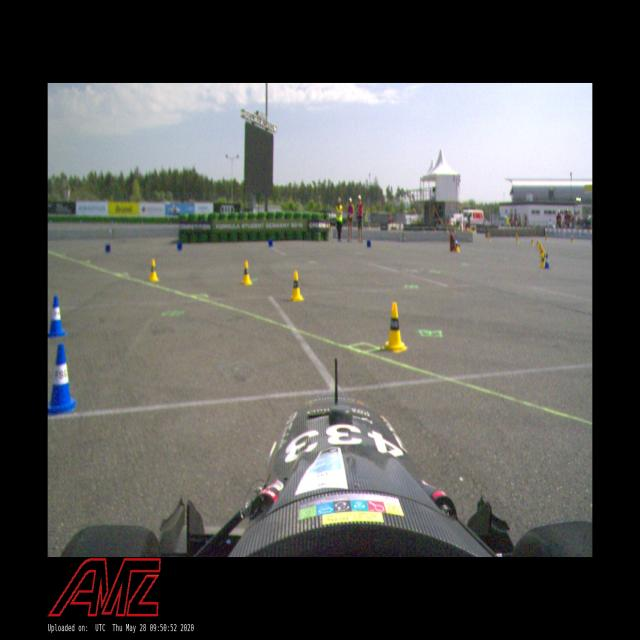blue_cone: (48, 342, 76, 417), (48, 295, 67, 337), (544, 254, 550, 269), (105, 244, 111, 253), (177, 242, 182, 251), (268, 240, 273, 247), (367, 240, 371, 248)
yellow_cone: (384, 303, 405, 352), (290, 270, 304, 301), (242, 260, 252, 285), (148, 258, 158, 282), (540, 252, 546, 268), (536, 239, 539, 247), (531, 237, 534, 245), (571, 235, 574, 243), (545, 234, 548, 241)
